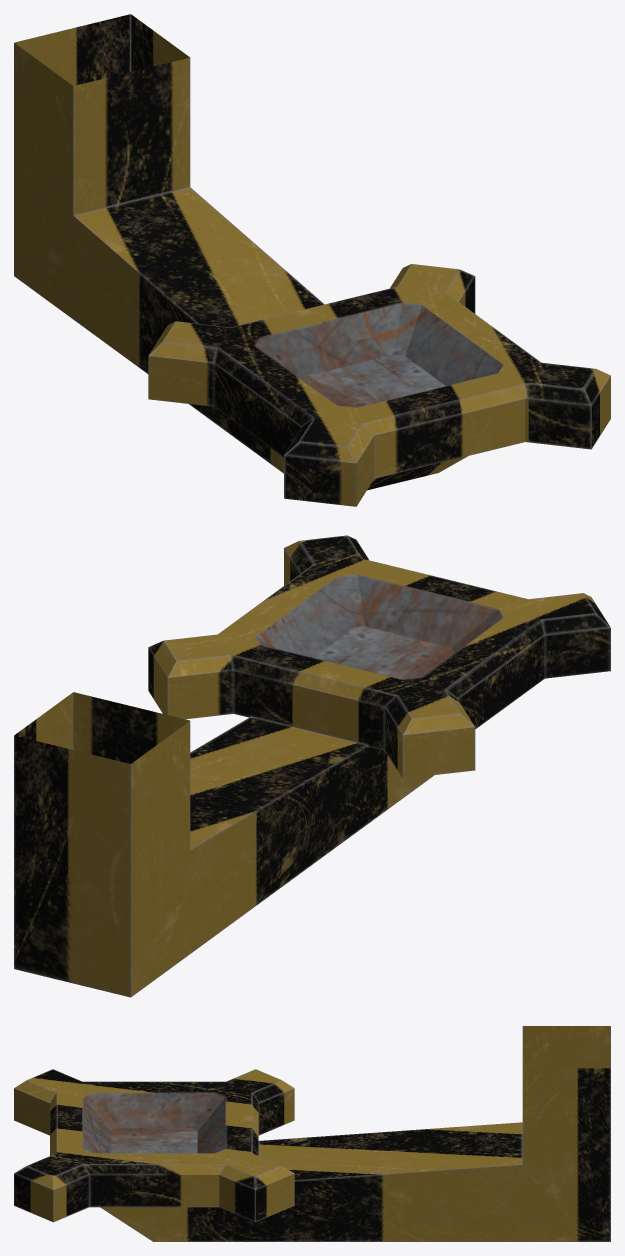
File: becon_platform.glb
3 renders of one model, top to bottom at view 1: azimuth 30°, elevation 25°; view 2: azimuth 150°, elevation 25°; view 3: azimuth 270°, elevation 25°, orthographic. The views are drawn at different scales.
Parts seen in each view (by area): view 1: becon_platform; view 2: becon_platform; view 3: becon_platform.
Part boxes in pixels (bbox=[...]): becon_platform: bbox=[14, 14, 610, 506]; becon_platform: bbox=[14, 535, 610, 997]; becon_platform: bbox=[14, 1026, 610, 1241].
Size of the model in its own units: 4.7 by 3.21 by 9.99.
1 material, 1 textured.
